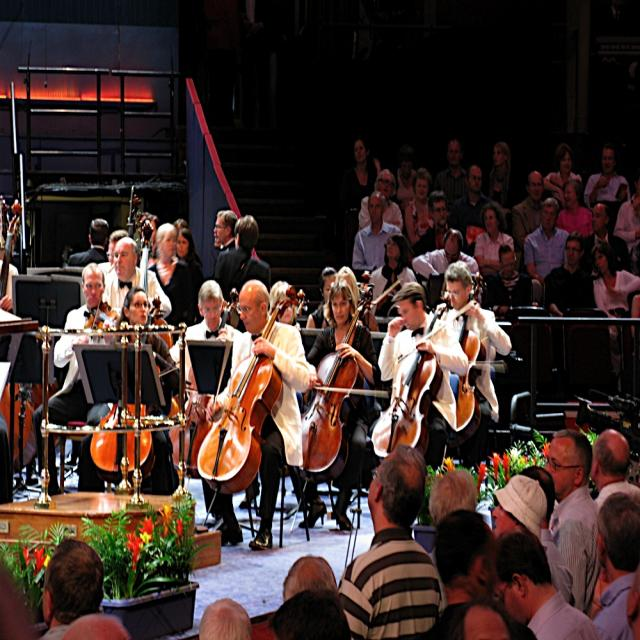cello: (196, 287, 306, 498), (290, 285, 376, 484), (163, 284, 240, 479), (371, 301, 449, 464), (92, 322, 154, 482), (447, 273, 491, 439), (0, 341, 37, 476)
violin: (82, 301, 126, 332)
